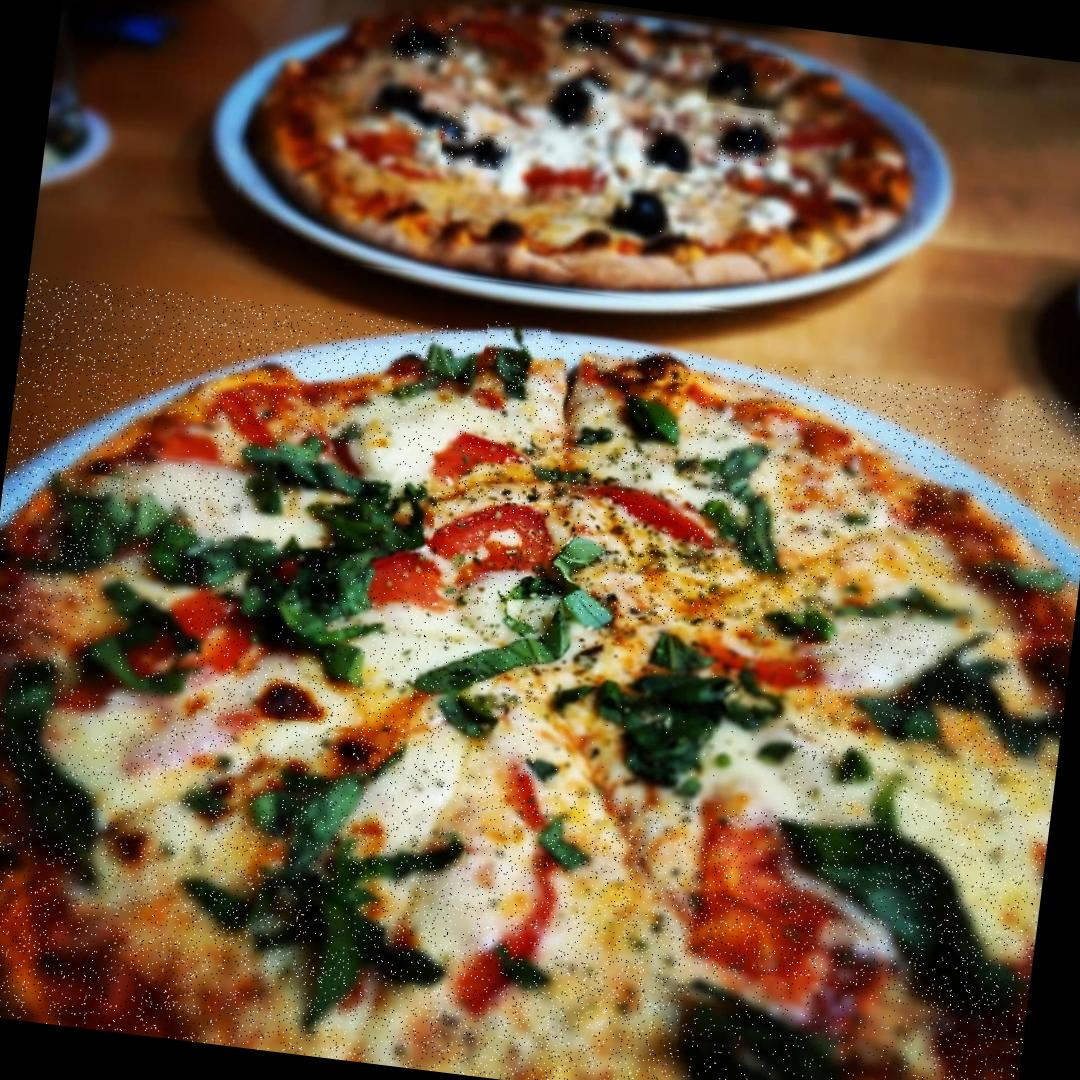Basil: (159, 709, 480, 1048), (532, 610, 804, 816), (224, 432, 440, 685), (832, 614, 1072, 768), (0, 642, 133, 885), (670, 966, 909, 1080), (408, 592, 574, 756), (21, 468, 221, 603), (82, 573, 204, 710), (509, 525, 625, 644), (827, 568, 1002, 639), (699, 478, 799, 580), (598, 375, 698, 457), (383, 335, 480, 412), (673, 431, 774, 492), (480, 320, 552, 400), (760, 579, 838, 646), (568, 415, 626, 452)
Olives: (546, 59, 612, 134), (706, 50, 786, 111), (714, 109, 780, 168), (388, 16, 461, 67), (608, 184, 676, 237), (563, 8, 624, 58), (638, 123, 697, 174), (440, 130, 511, 172), (413, 105, 472, 142), (372, 80, 424, 117)
Peppers: (447, 752, 582, 1023), (557, 457, 737, 552), (430, 494, 565, 585), (592, 466, 732, 548), (162, 584, 272, 688), (690, 619, 835, 696), (352, 532, 460, 622), (427, 419, 530, 490), (214, 378, 295, 459), (52, 662, 123, 714), (149, 416, 224, 465), (127, 628, 177, 675)
Pizza: (0, 272, 1080, 1080), (231, 0, 934, 332)
